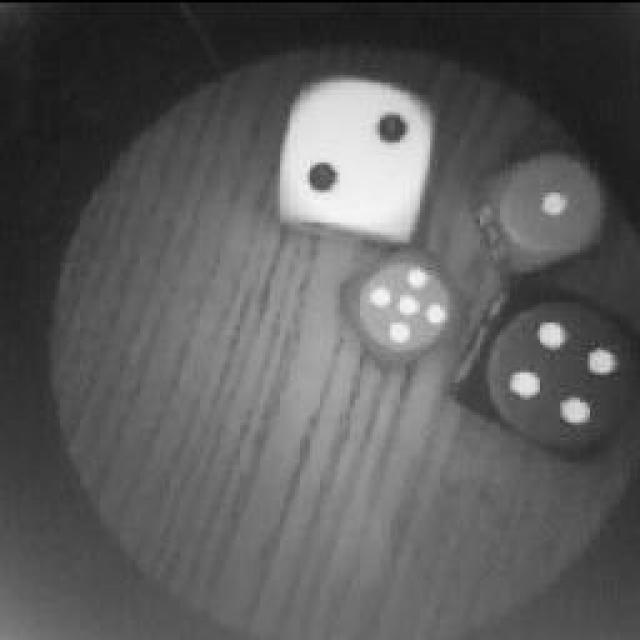dice_1: (475, 145, 610, 273)
dice_2: (272, 78, 440, 242)
dice_4: (462, 288, 640, 458)
dice_5: (335, 235, 470, 370)
